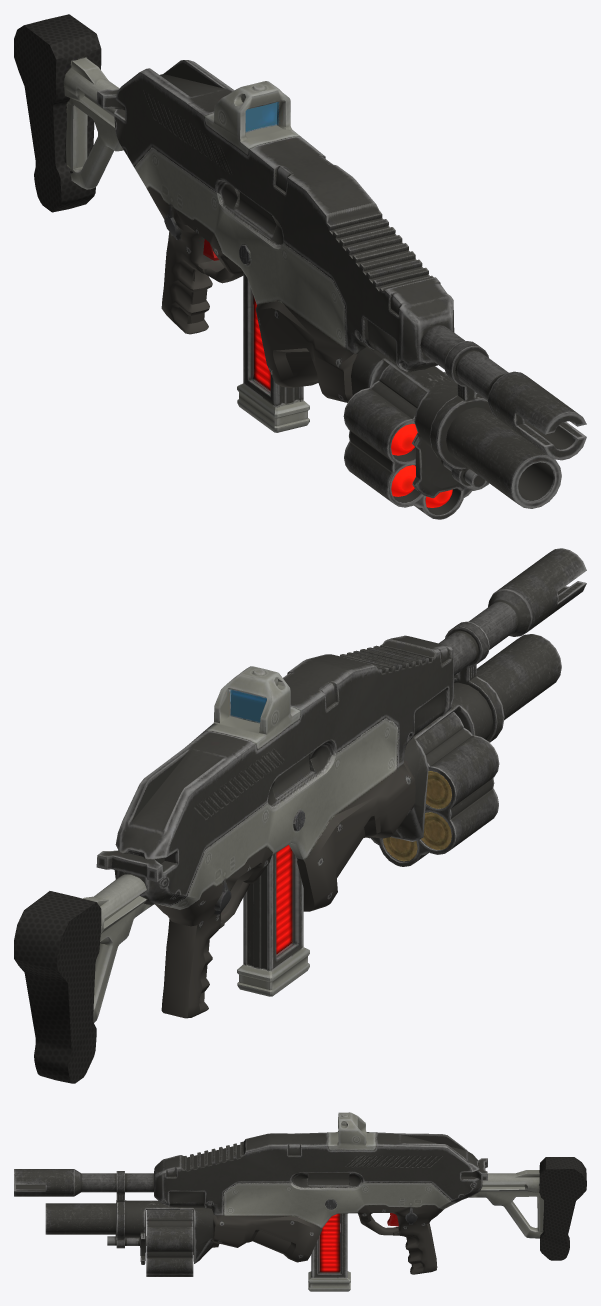
File: SM_SciFiAssaultRifleGrenadeLauncher.FBX
The picture shows the model from 3 angles, top to bottom: view 1: azimuth 30°, elevation 25°; view 2: azimuth 150°, elevation 25°; view 3: azimuth 270°, elevation 25°; orthographic projection. The views are drawn at different scales.
Parts seen in each view (by area): view 1: SM_SciFiAssaultRifleGrenadeLauncher; view 2: SM_SciFiAssaultRifleGrenadeLauncher; view 3: SM_SciFiAssaultRifleGrenadeLauncher.
Boxes of the visible parts, box(x1,y1,x2,y2) form: SM_SciFiAssaultRifleGrenadeLauncher: box(14, 14, 586, 519); SM_SciFiAssaultRifleGrenadeLauncher: box(14, 548, 586, 1083); SM_SciFiAssaultRifleGrenadeLauncher: box(14, 1112, 586, 1291).
Bounding box in the file's own units: 13.08 × 35.67 × 107.
